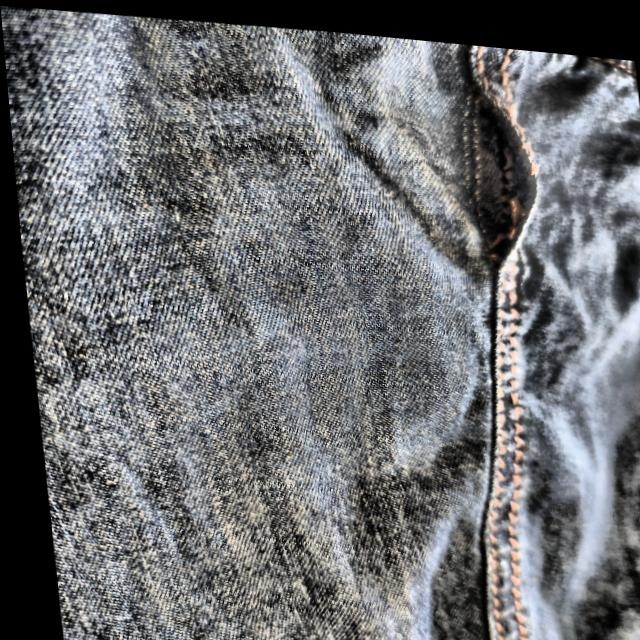seam: (435, 79, 570, 273)
